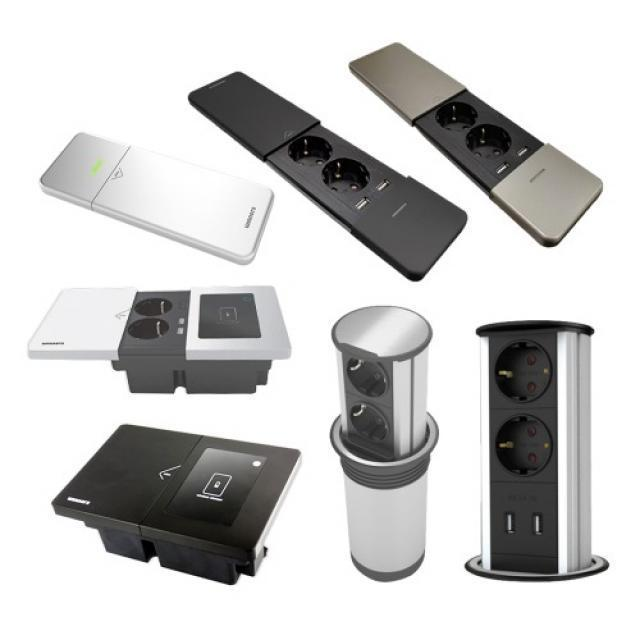typeb: (457, 307, 611, 594), (234, 116, 416, 241), (421, 74, 567, 187)
